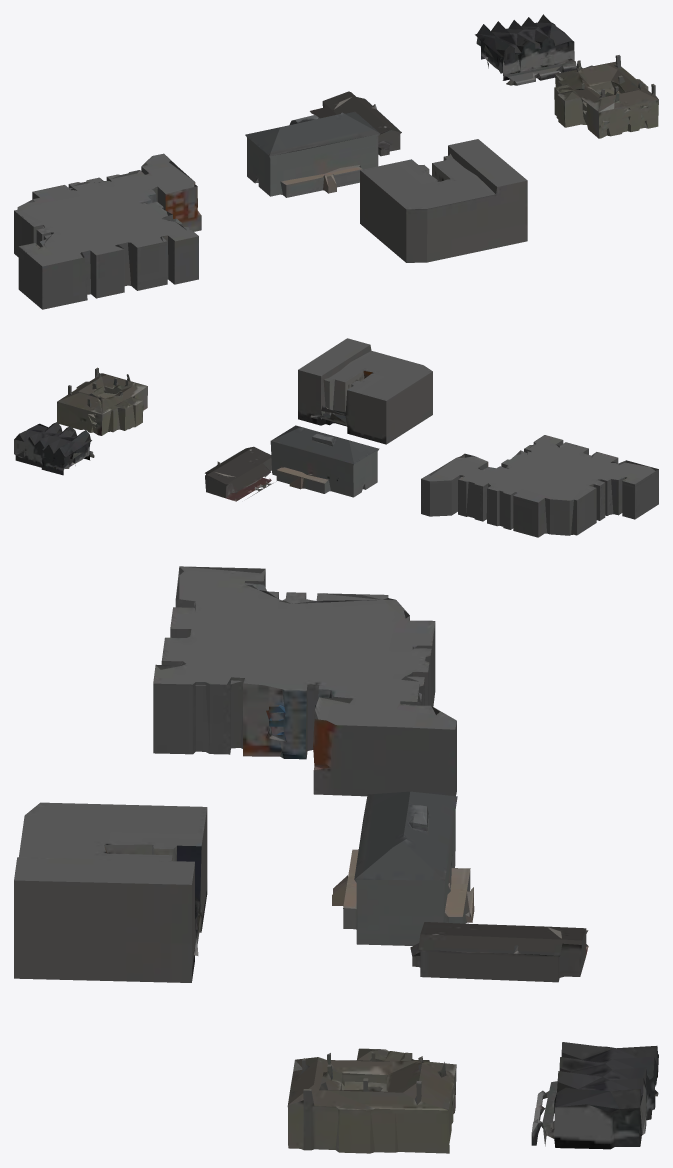
Rendered from t_-4_-3.coat.glb.
3 renders of one model, top to bottom at view 1: azimuth 30°, elevation 25°; view 2: azimuth 150°, elevation 25°; view 3: azimuth 270°, elevation 25°, orthographic. The views are drawn at different scales.
Parts seen in each view (by area): view 1: far; view 2: far; view 3: far.
Part boxes in pixels (x1=…): far: x1=14, y1=14, x2=658, y2=309; far: x1=14, y1=338, x2=658, y2=537; far: x1=14, y1=566, x2=658, y2=1153.
Bounding box in the file's own units: 263 × 23.21 × 138.
1 material, 1 textured.
